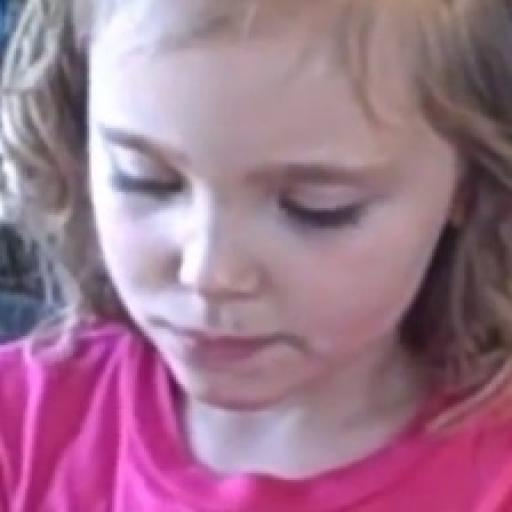Autism: (87, 0, 479, 441)
